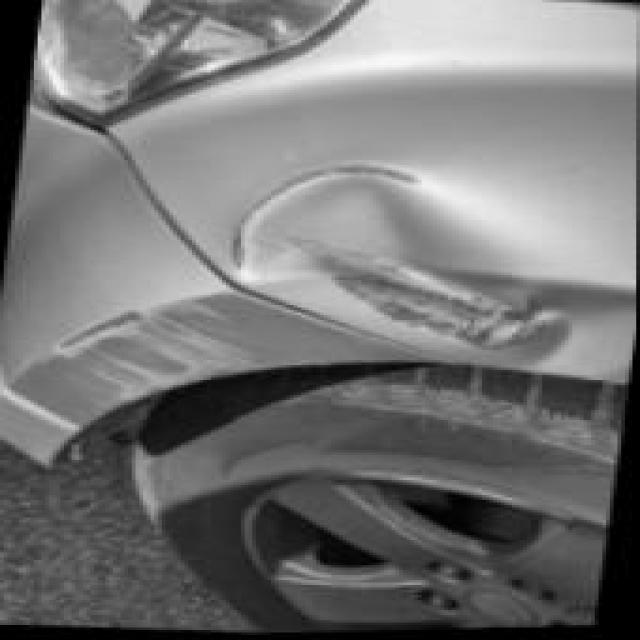Bumper: (0, 285, 276, 443)
Fender: (248, 72, 639, 362)
